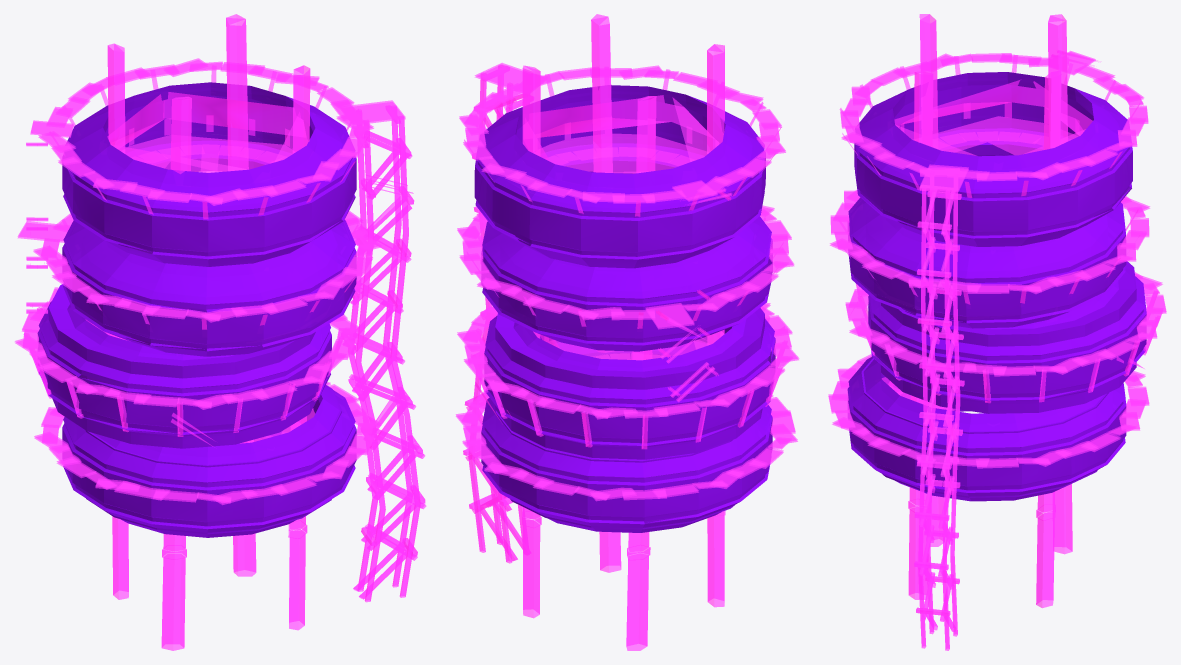
Rendered from lobby_building.glb.
3 views of the same model, side by side, from view 1: azimuth 30°, elevation 25°; view 2: azimuth 150°, elevation 25°; view 3: azimuth 270°, elevation 25° (orthographic). The views are drawn at different scales.
Visible parts, largest first — view 1: building_body; view 2: building_body; view 3: building_body.
Boxes of the visible parts, x1,y1,x2,y2 form: building_body: (15,14,426,650); building_body: (456,14,799,650); building_body: (828,14,1166,650).
Size of what is drawn, in the model's own units: 10.2 by 15.73 by 9.11.
